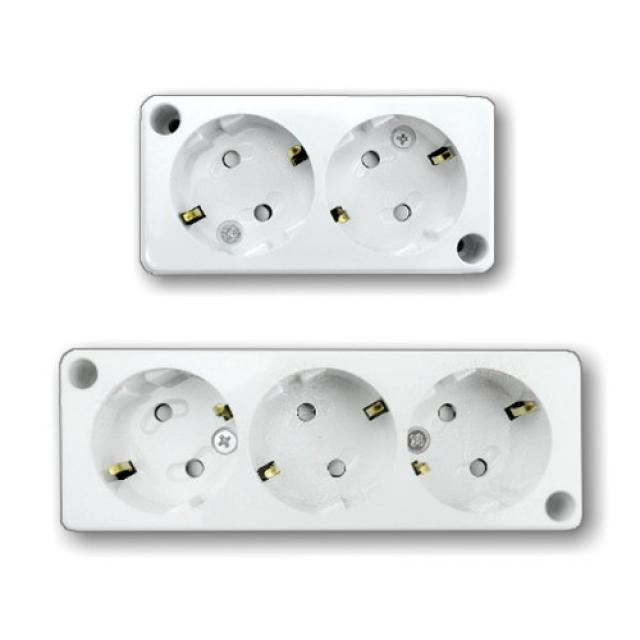typeb: (30, 328, 608, 560), (65, 82, 556, 299)
